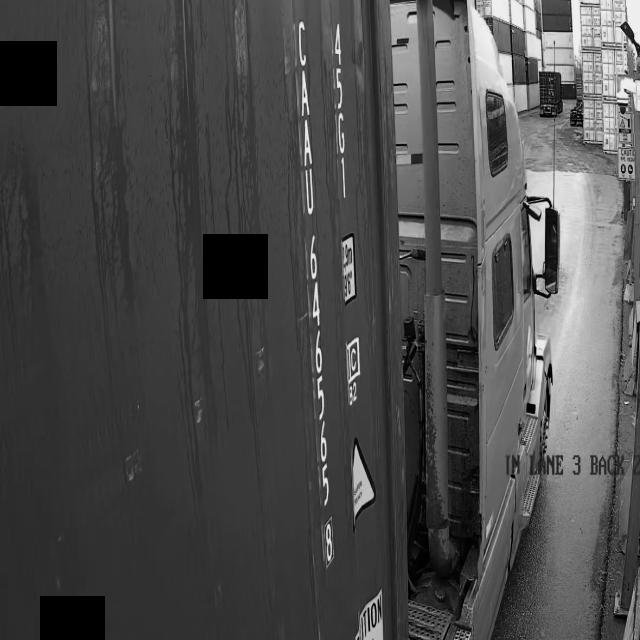container_side_no: (287, 9, 341, 587)
truck_with_container: (0, 0, 566, 640)
